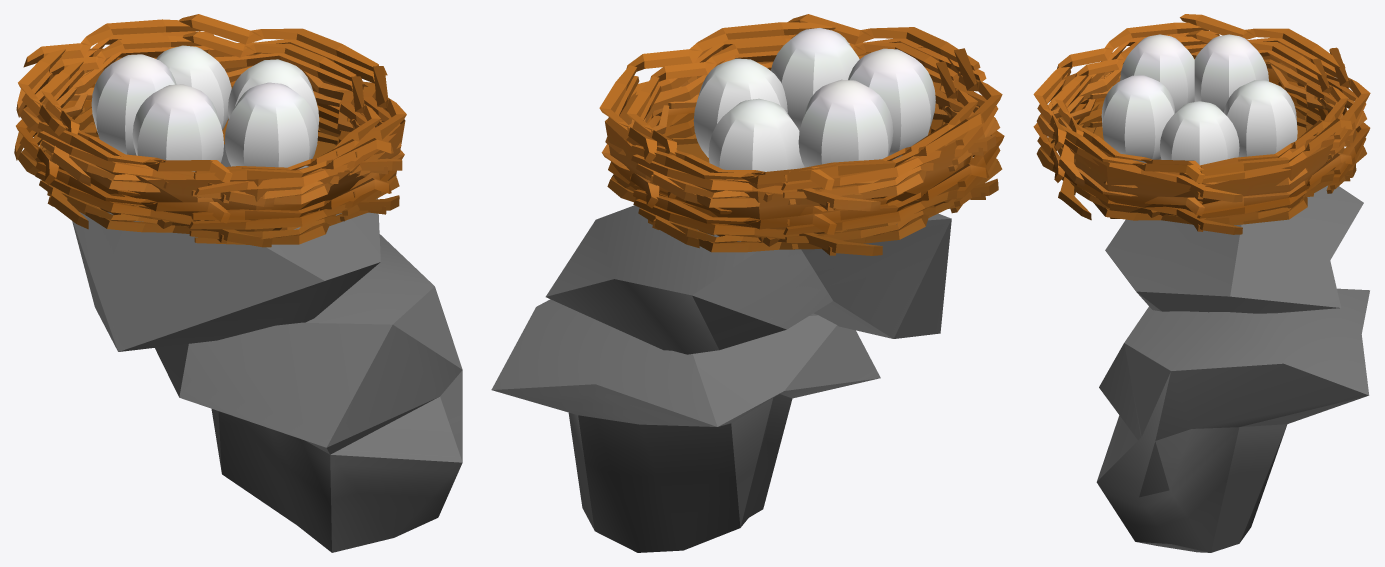
File: NinhonaRocha.glb
3 renders of one model, left to right at view 1: azimuth 30°, elevation 25°; view 2: azimuth 150°, elevation 25°; view 3: azimuth 270°, elevation 25°, orthographic. The views are drawn at different scales.
Visible parts, largest first — view 1: NinhonaRocha; view 2: NinhonaRocha; view 3: NinhonaRocha.
Part boxes in pixels (x1,y1,x2,y2): NinhonaRocha: (14, 14, 462, 552); NinhonaRocha: (491, 14, 1004, 552); NinhonaRocha: (1033, 14, 1370, 552).
Size of the model in its own units: 2.15 by 2.59 by 1.9.
1 material, 1 textured.
